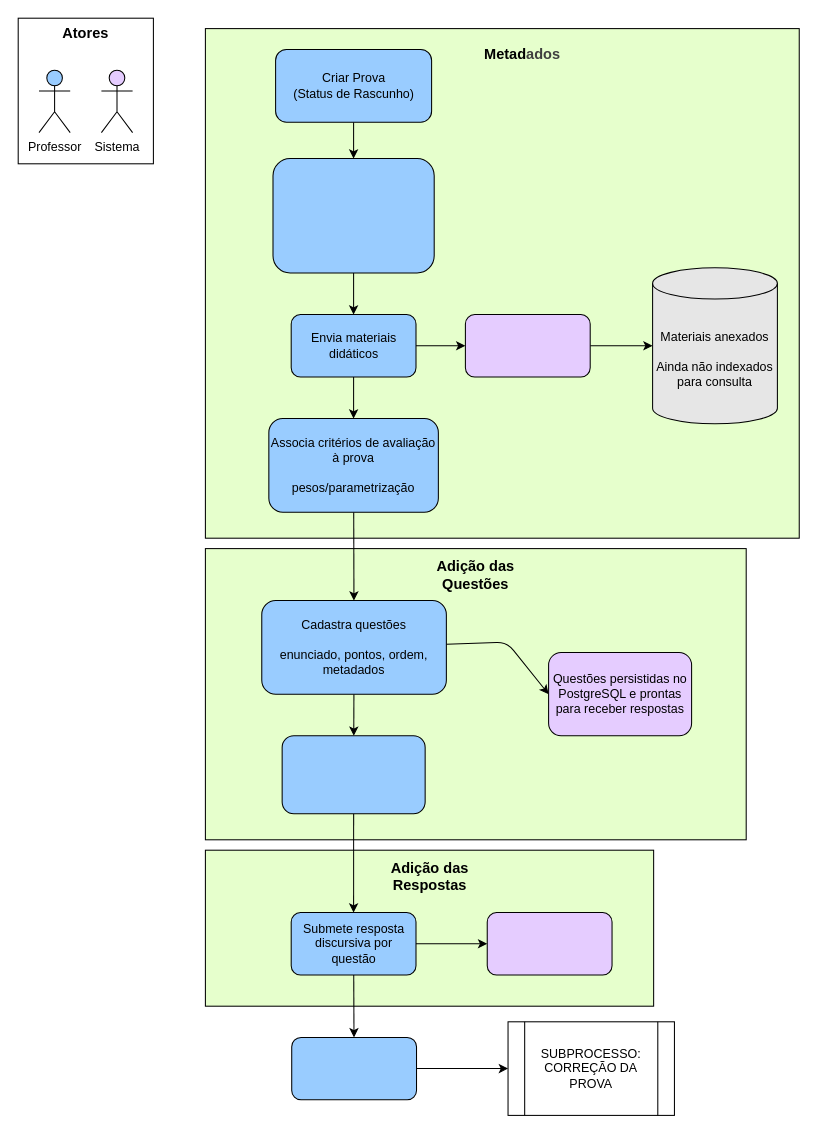
This 817x1134 diagram has some shape labels left out. The box of each missing label's shape, as (x1, y1, x2, y2) in pixels:
(Opcional) override/ajuste de critérios por questão: (281, 735, 425, 814)
Arquivo salvo no filesystem + registro no banco: (464, 314, 590, 377)
Define metadados da Prova (Título/Descrição/Turma): (272, 158, 434, 273)
Publica prova: (291, 1036, 417, 1100)
Resposta persistida no PostgreSQL: (486, 912, 612, 975)
